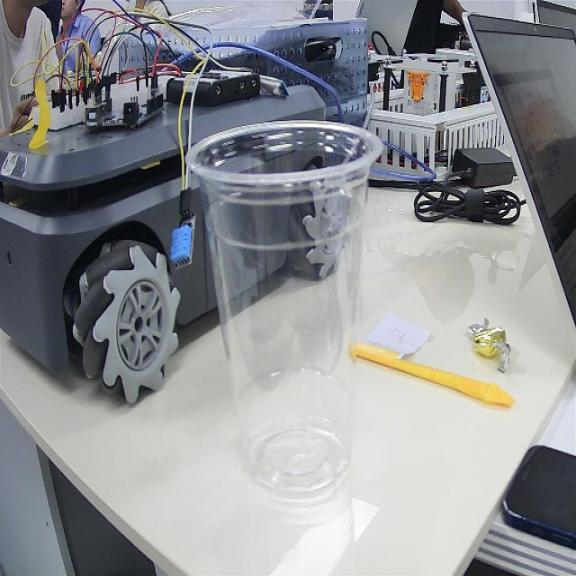Plastik: (188, 122, 381, 500)
